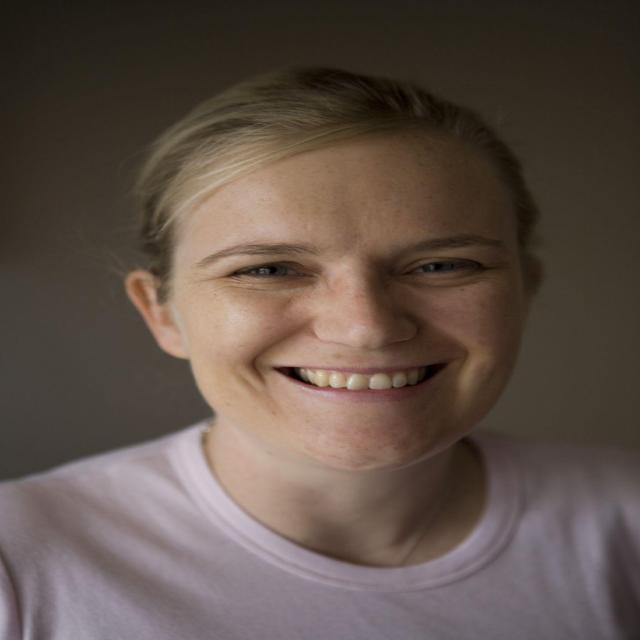no-glass: (206, 248, 502, 299)
